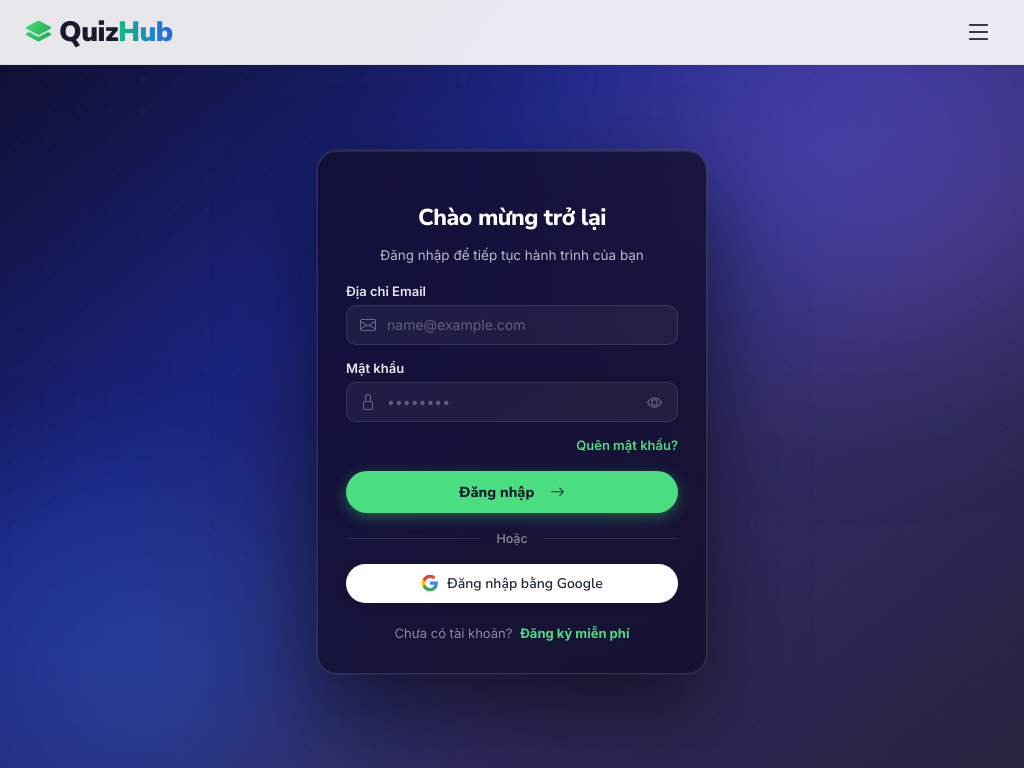
it: LoginPage Component - V1 1:1 Parity and Auth Behavior › manages mobile header menu focus trap and returns focus on Escape
# Open mobile menu
Click the button with id "mobile-nav-toggle" at (978, 32), box left=958, top=12, right=998, bottom=52
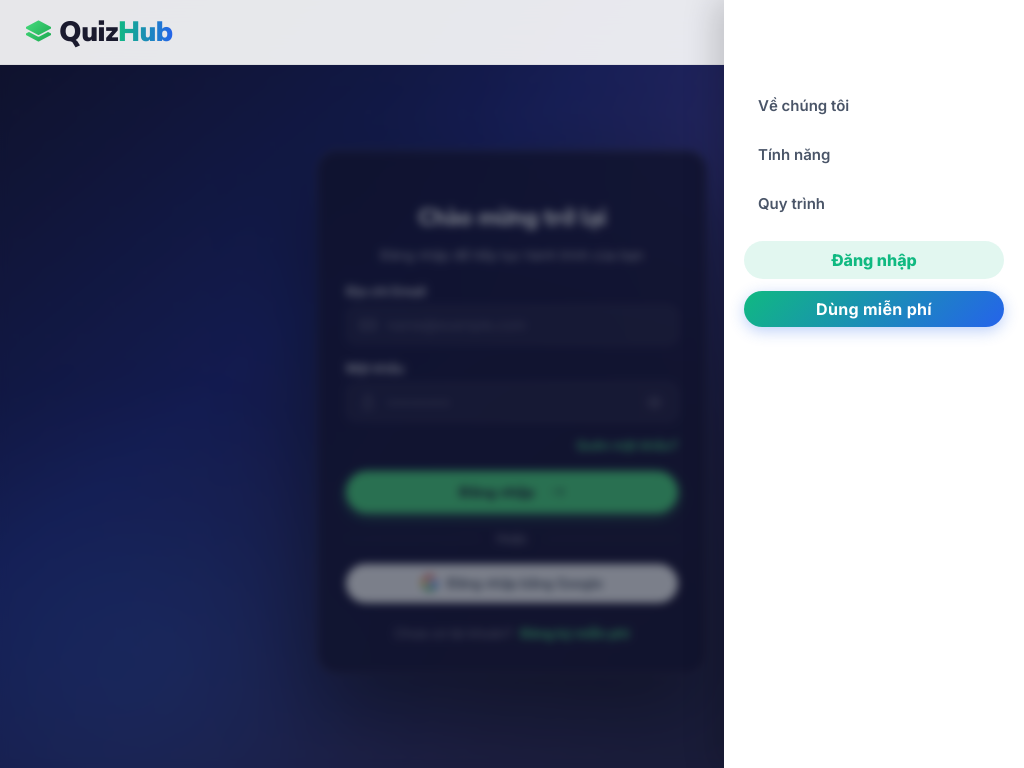
# Press Escape to close and verify focus returns to toggle button
Press Escape
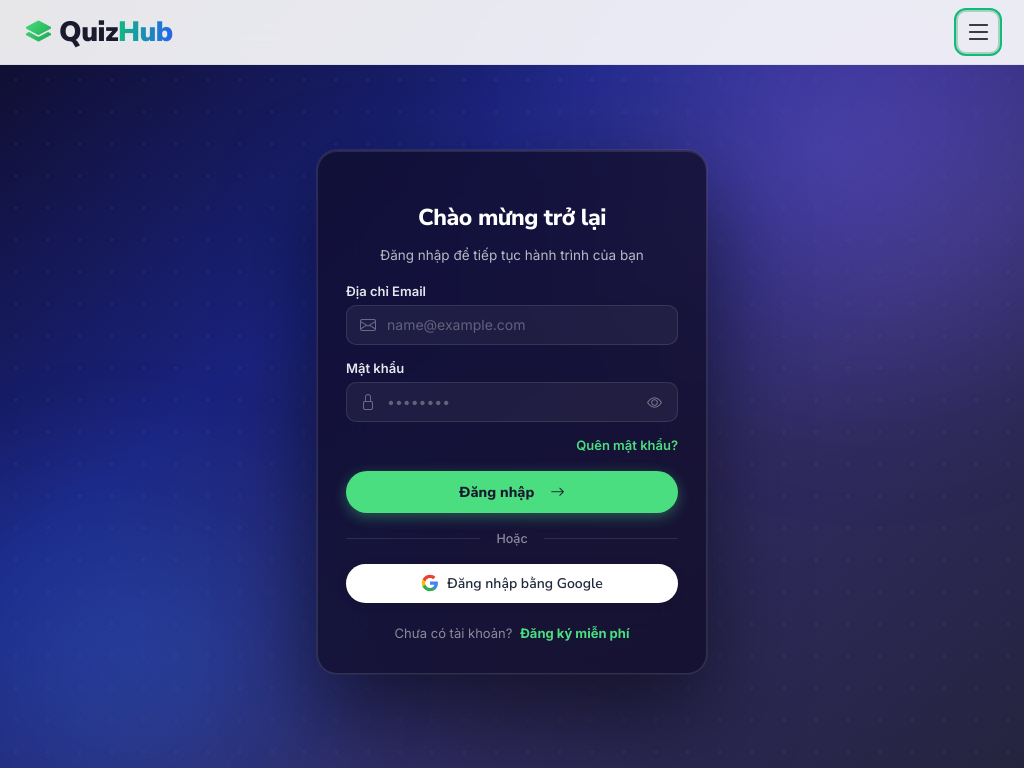
Expected: the button with id "mobile-nav-toggle" is collapsed, left=958, top=12, right=998, bottom=52
